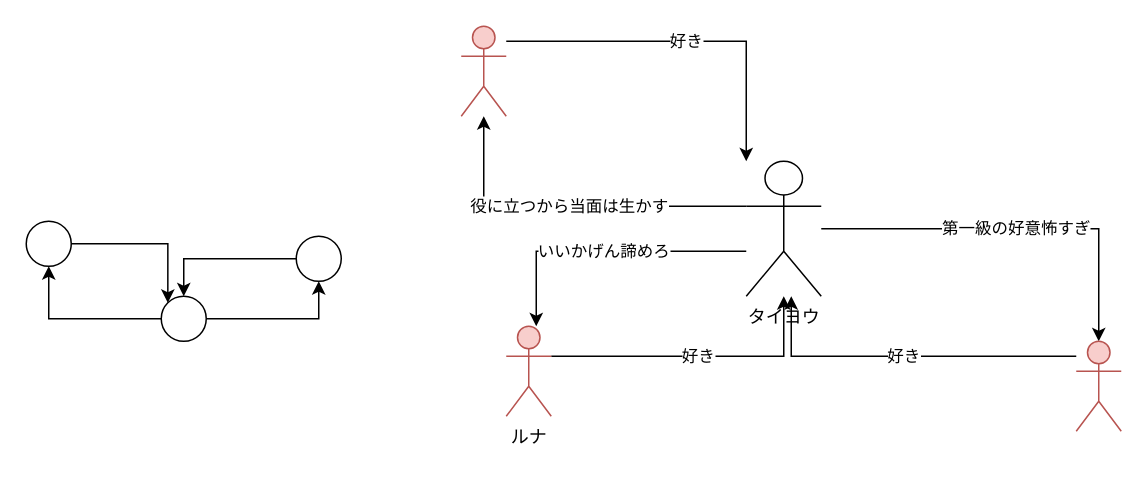
Some shapes in this 1148 by 489 pixel diagram are drawn without their labels. The centre of each missing label's shape, as x and y in pixels:
ヤンデ: the point at 483,70
ユズ: the point at 1098,385
